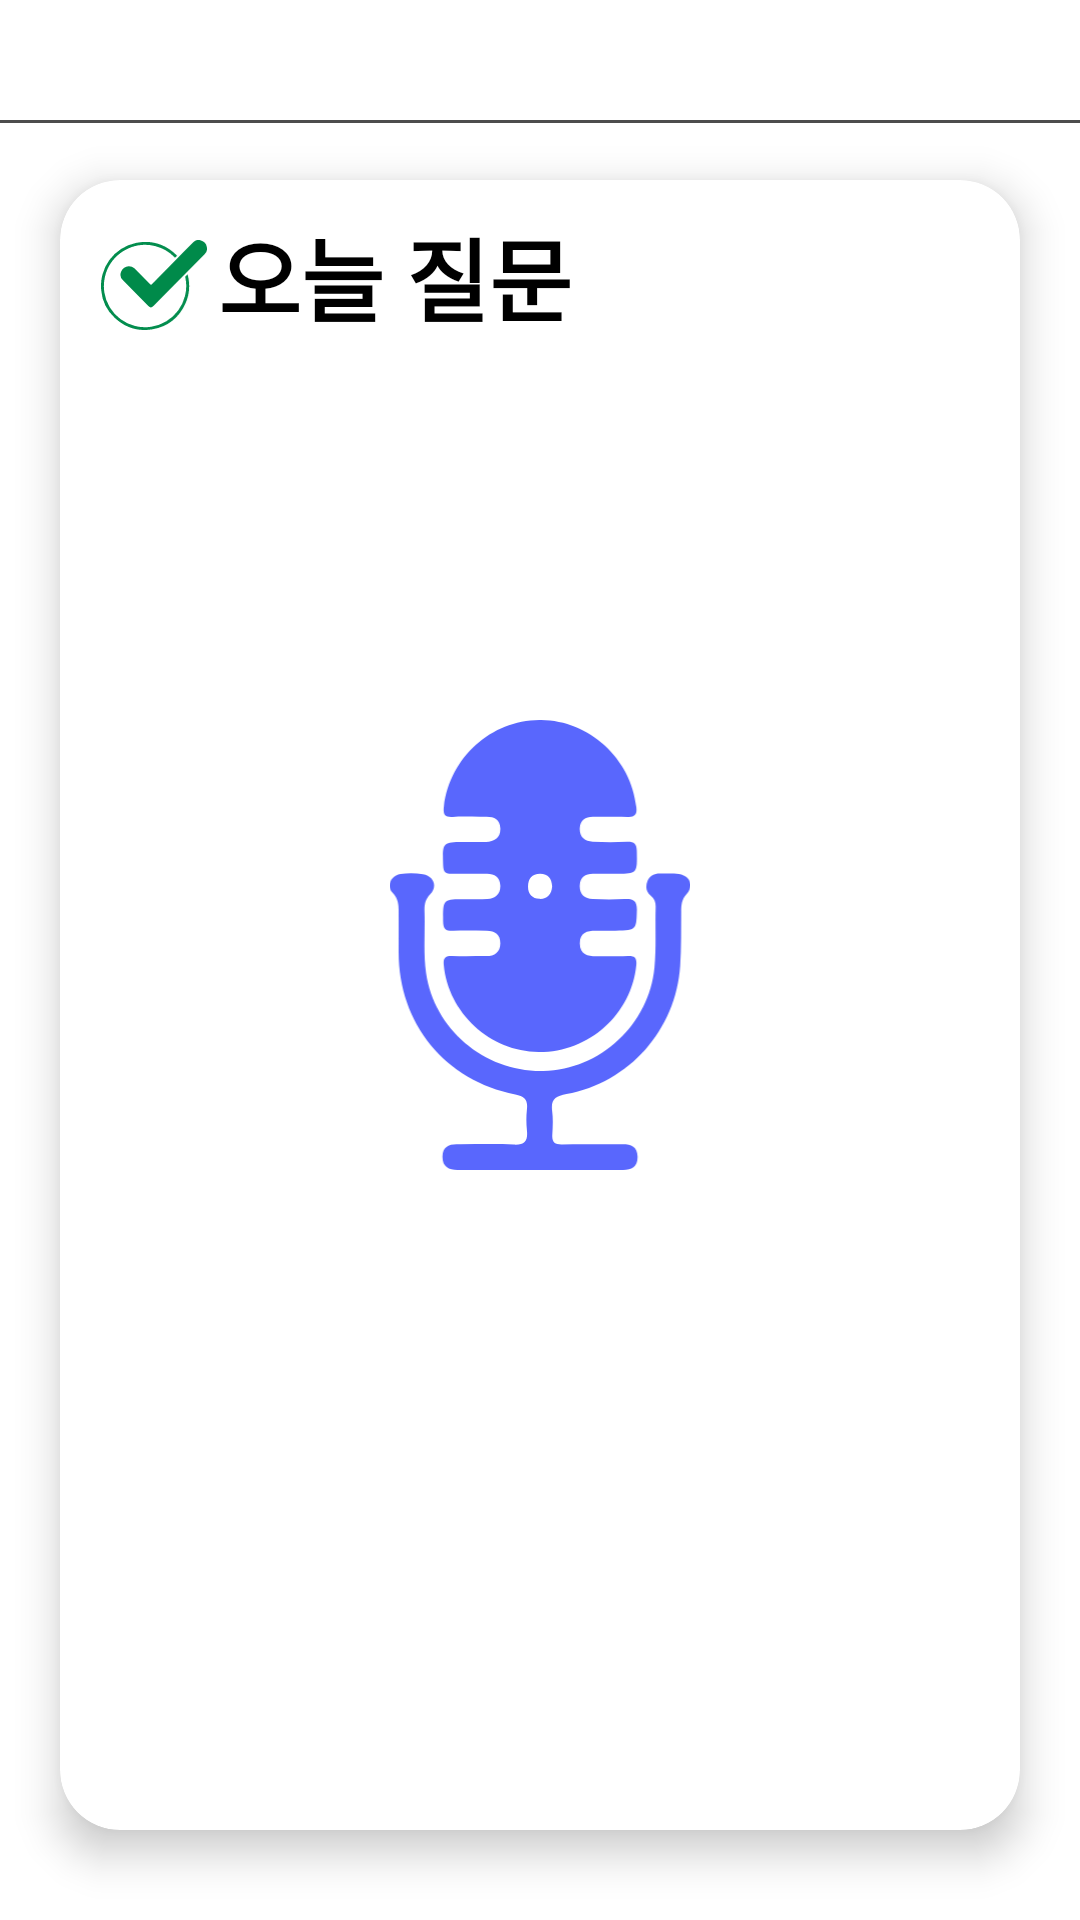

Where to tap for icons on this 1080w x 1920h app screen, as (x,y):
check: (154,285)
